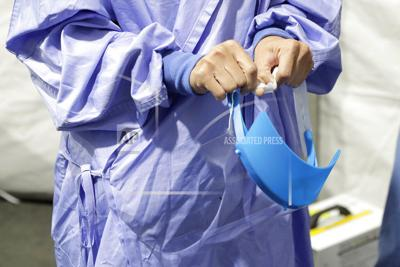hand: (187, 37, 259, 104), (250, 35, 315, 100)
